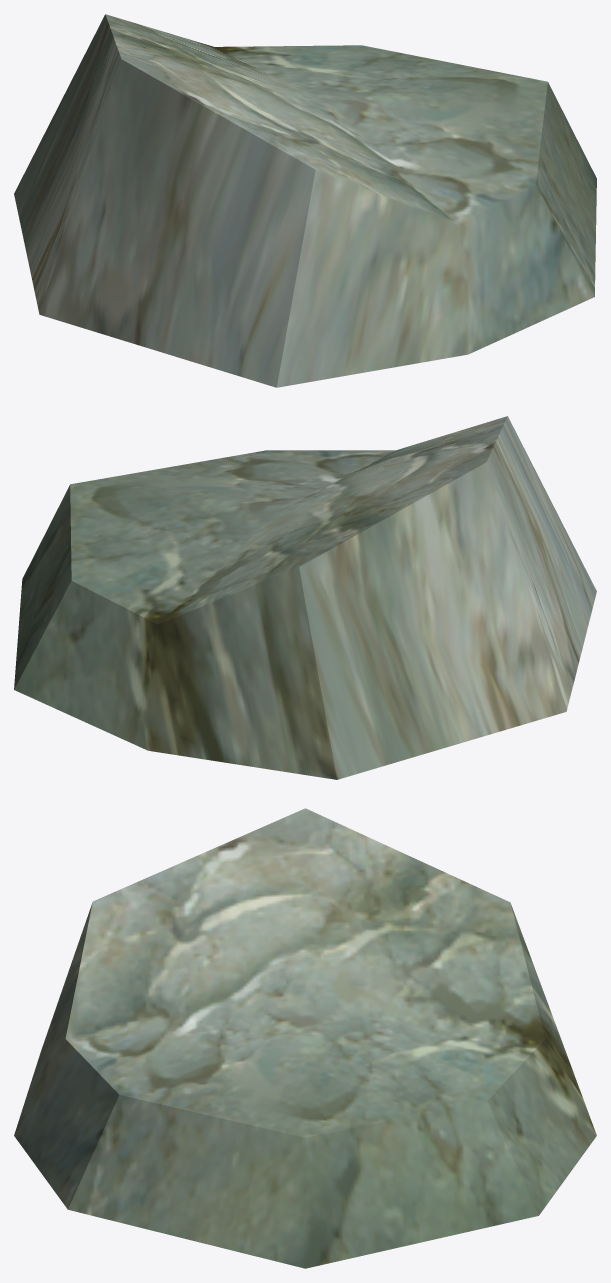
File: QSMY_MJ_Shan02.FBX
3 views of the same model, one above another, from view 1: azimuth 30°, elevation 25°; view 2: azimuth 150°, elevation 25°; view 3: azimuth 270°, elevation 25° (orthographic). The views are drawn at different scales.
Parts seen in each view (by area): view 1: Box50; view 2: Box50; view 3: Box50.
Part boxes in pixels (x1,y1,x2,y2): Box50: (14, 14, 596, 387); Box50: (14, 416, 596, 779); Box50: (14, 808, 596, 1268).
Size of the model in its own units: 27.19 by 10.98 by 25.
